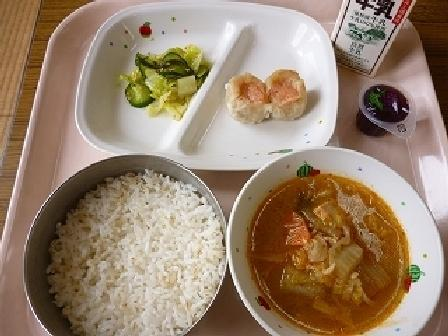Cup desserts: (357, 74, 419, 146)
Milk: (322, 0, 423, 70)
Rice: (18, 162, 219, 335)
Soups: (222, 148, 433, 335)
cutlet: (219, 56, 316, 140)
salad with sauce: (113, 38, 222, 127)
